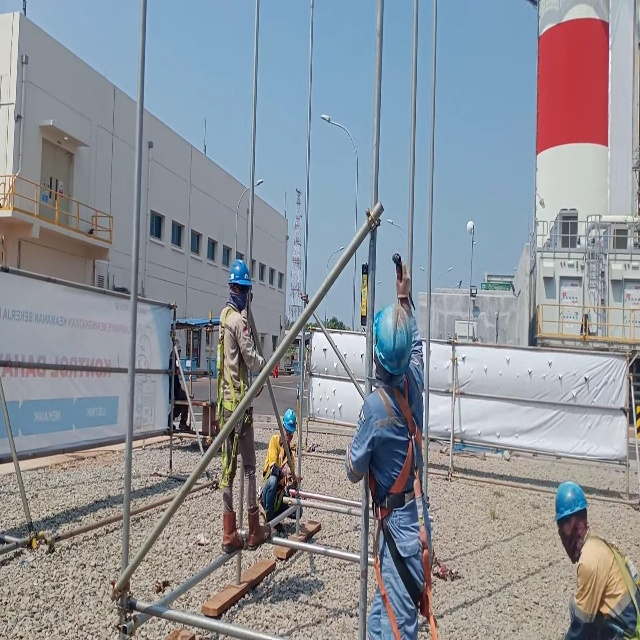Arnes_seguridad: (361, 378, 439, 640), (214, 303, 253, 494), (258, 425, 290, 514)
